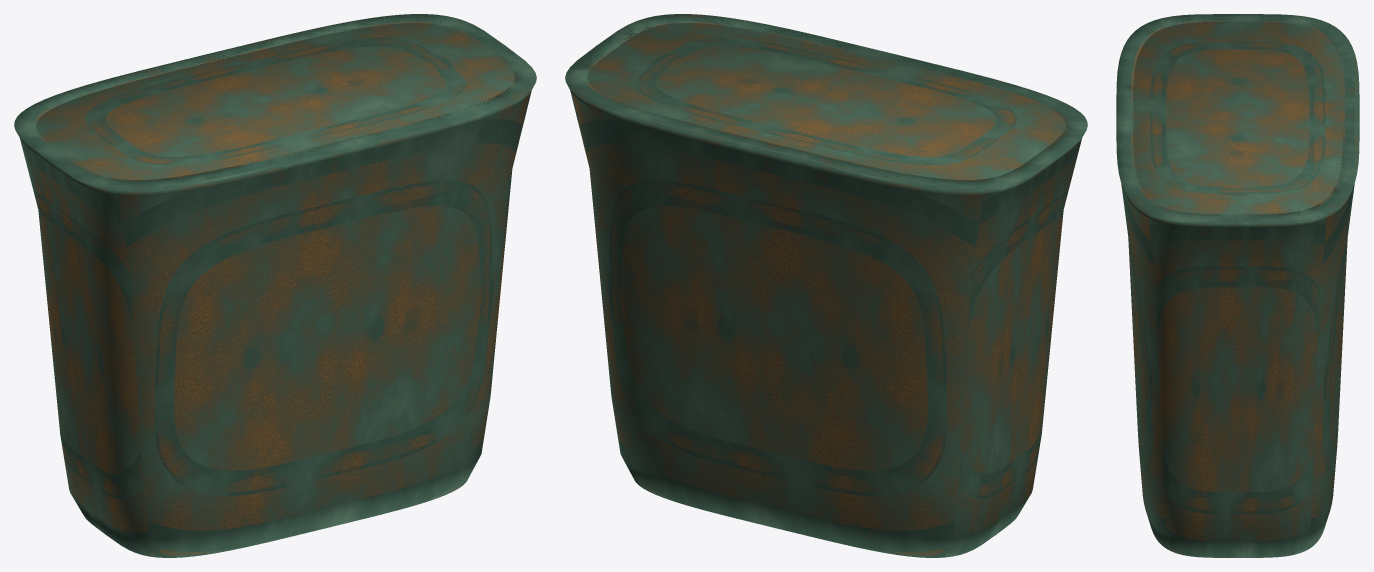
Rendered from Great bell _ hollow cast shell.glb.
The picture shows the model from 3 angles, left to right: view 1: azimuth 30°, elevation 25°; view 2: azimuth 150°, elevation 25°; view 3: azimuth 270°, elevation 25°; orthographic projection. The views are drawn at different scales.
Visible parts, largest first — view 1: Great bell | hollow cast shell; view 2: Great bell | hollow cast shell; view 3: Great bell | hollow cast shell.
Boxes of the visible parts, box(x1,y1,x2,y2) form: Great bell | hollow cast shell: box(14, 14, 536, 557); Great bell | hollow cast shell: box(565, 14, 1087, 557); Great bell | hollow cast shell: box(1116, 14, 1359, 557).
Bounding box in the file's own units: 2.36 × 1.92 × 1.17.
Materials: 1 (1 with a texture image).
